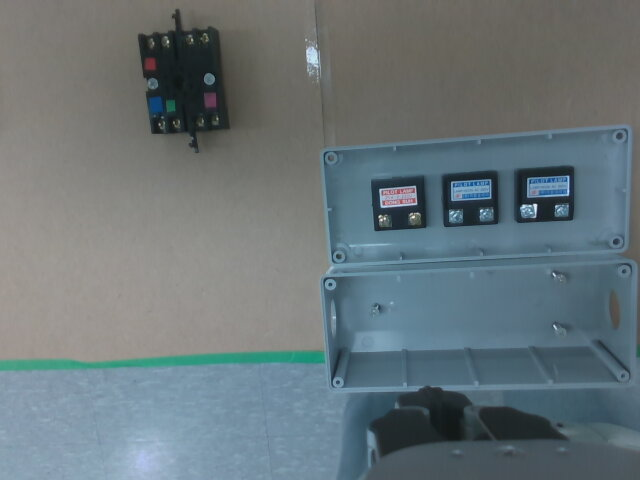L1(1): (377, 214, 392, 228)
L1(2): (407, 212, 421, 226)
L2(1): (448, 208, 463, 224)
L2(2): (478, 207, 494, 222)
L3(1): (521, 204, 536, 218)
L3(2): (554, 204, 569, 217)
